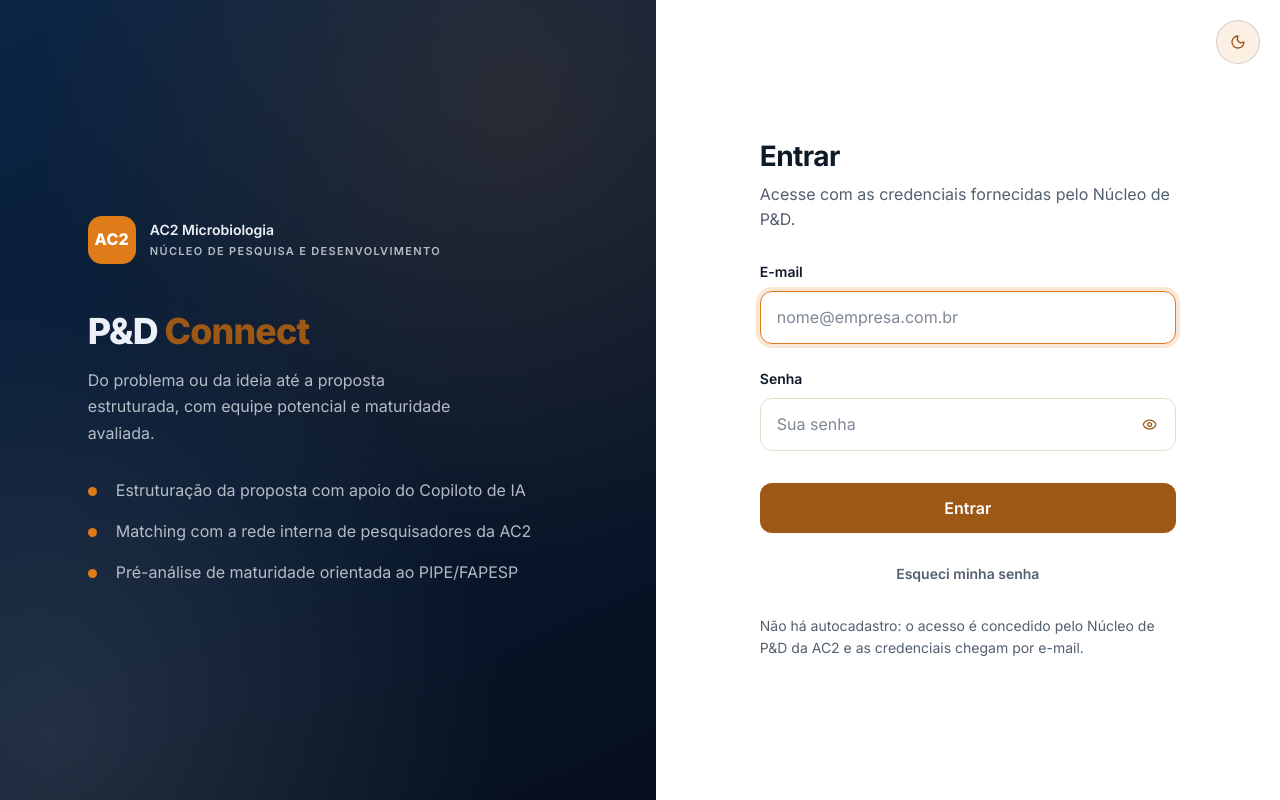
Scenario: LoginPage — validacao no cliente › sem senha: o foco vai para a senha, nao para o e-mail
This screenshot has width=1280, height=800.
Type "supervisor@ac2microbiologia.com.br" into the field labelled "E-mail" at (968, 318), box x1=760 y1=291 x2=1176 y2=344
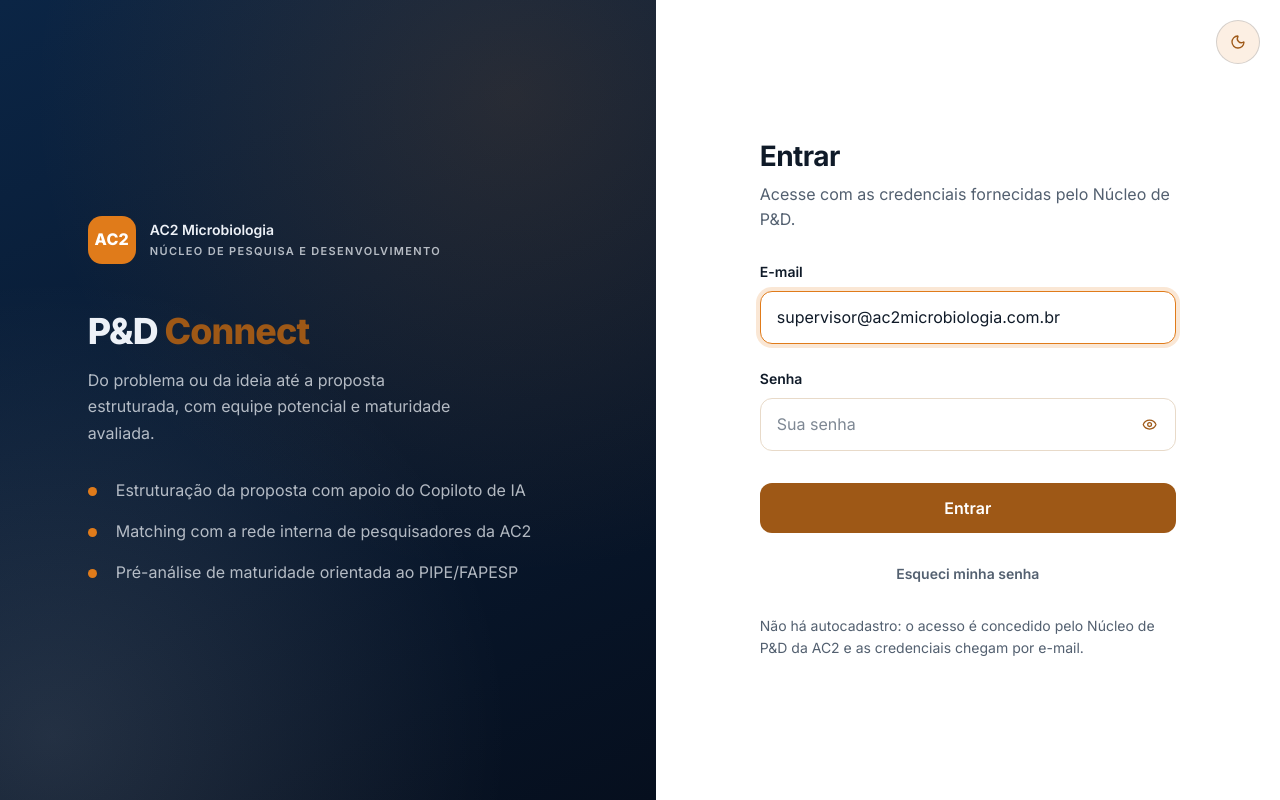
Click the button "Entrar" at (968, 508), box x1=760 y1=483 x2=1176 y2=533
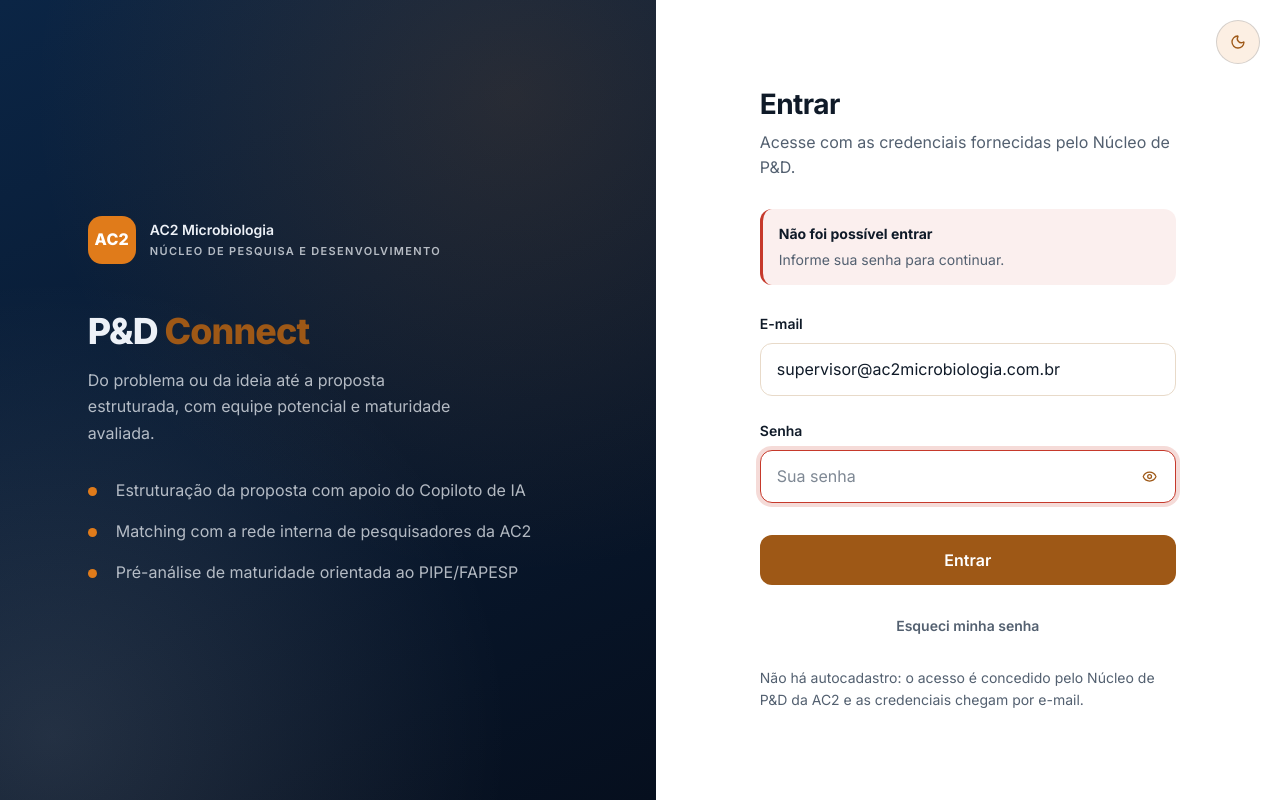
Expected: the message shows "Informe sua senha para continuar.", x1=779 y1=251 x2=1004 y2=268
